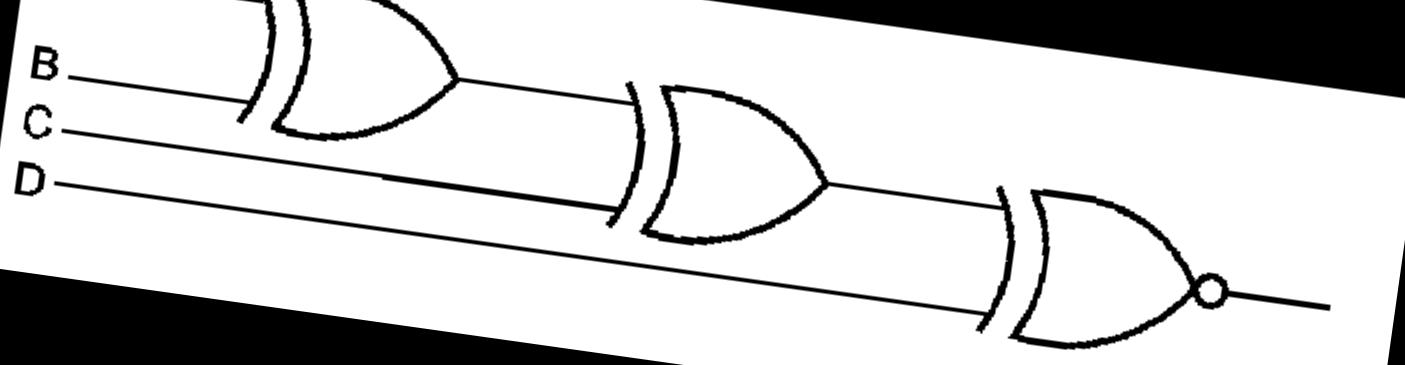xnor: (939, 147, 1262, 365)
xor: (562, 46, 876, 277), (185, 0, 508, 175)
